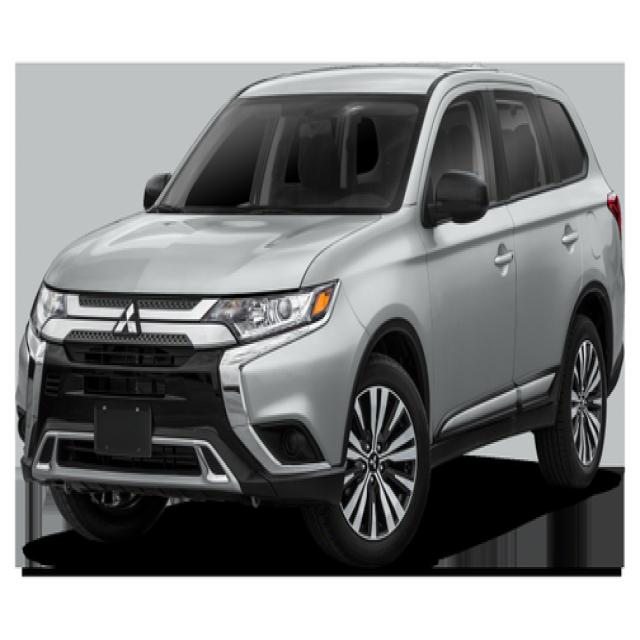light_vehicle: (17, 65, 624, 569)
